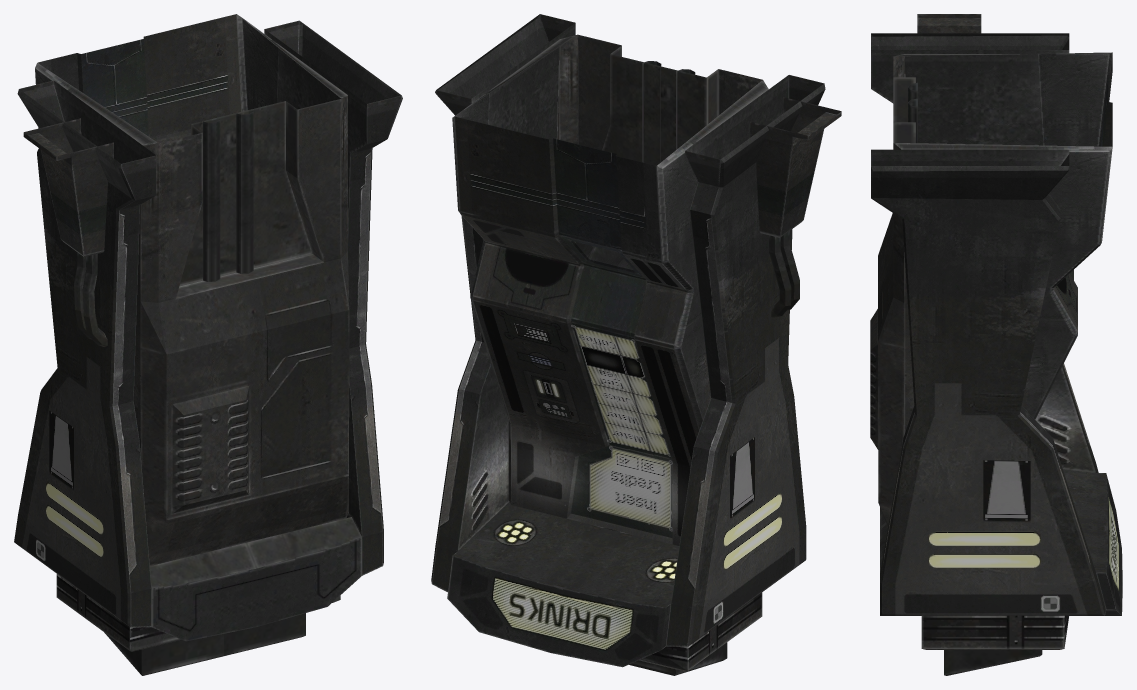
The model's file is vending.obj.
The picture shows the model from 3 angles, left to right: view 1: azimuth 30°, elevation 25°; view 2: azimuth 150°, elevation 25°; view 3: azimuth 270°, elevation 25°; orthographic projection. The views are drawn at different scales.
Visible parts, largest first — view 1: Mesh_mesh000; view 2: Mesh_mesh000; view 3: Mesh_mesh000.
Boxes of the visible parts, <box> form: Mesh_mesh000: <box>14,14,402,675</box>; Mesh_mesh000: <box>431,14,841,675</box>; Mesh_mesh000: <box>870,14,1122,675</box>.
Size of the model in its own units: 1.55 by 2.55 by 1.08.
1 material, 1 textured.
